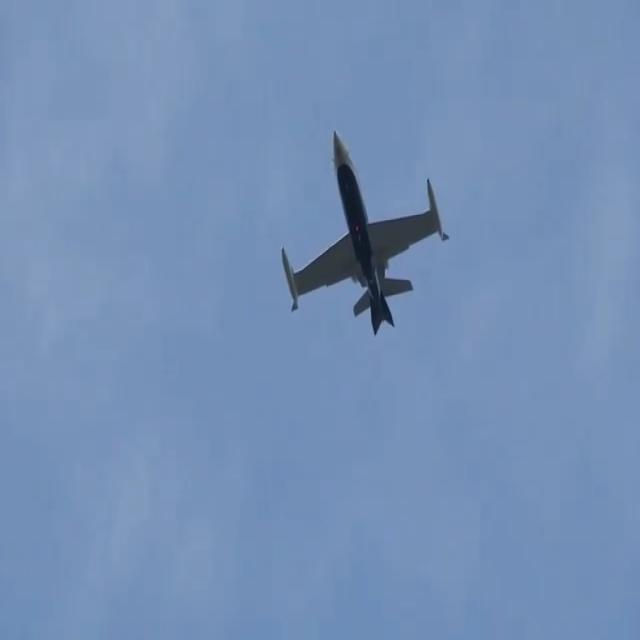AirPlane: (247, 124, 462, 348)
